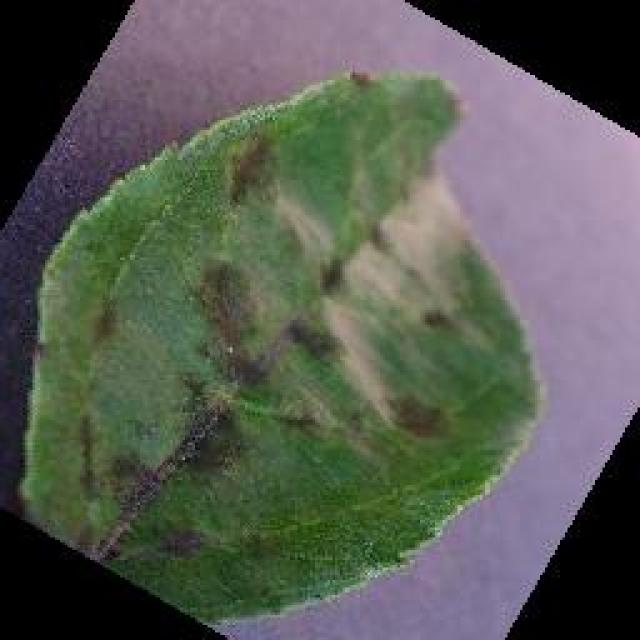apple scab disease: (15, 65, 543, 623)
